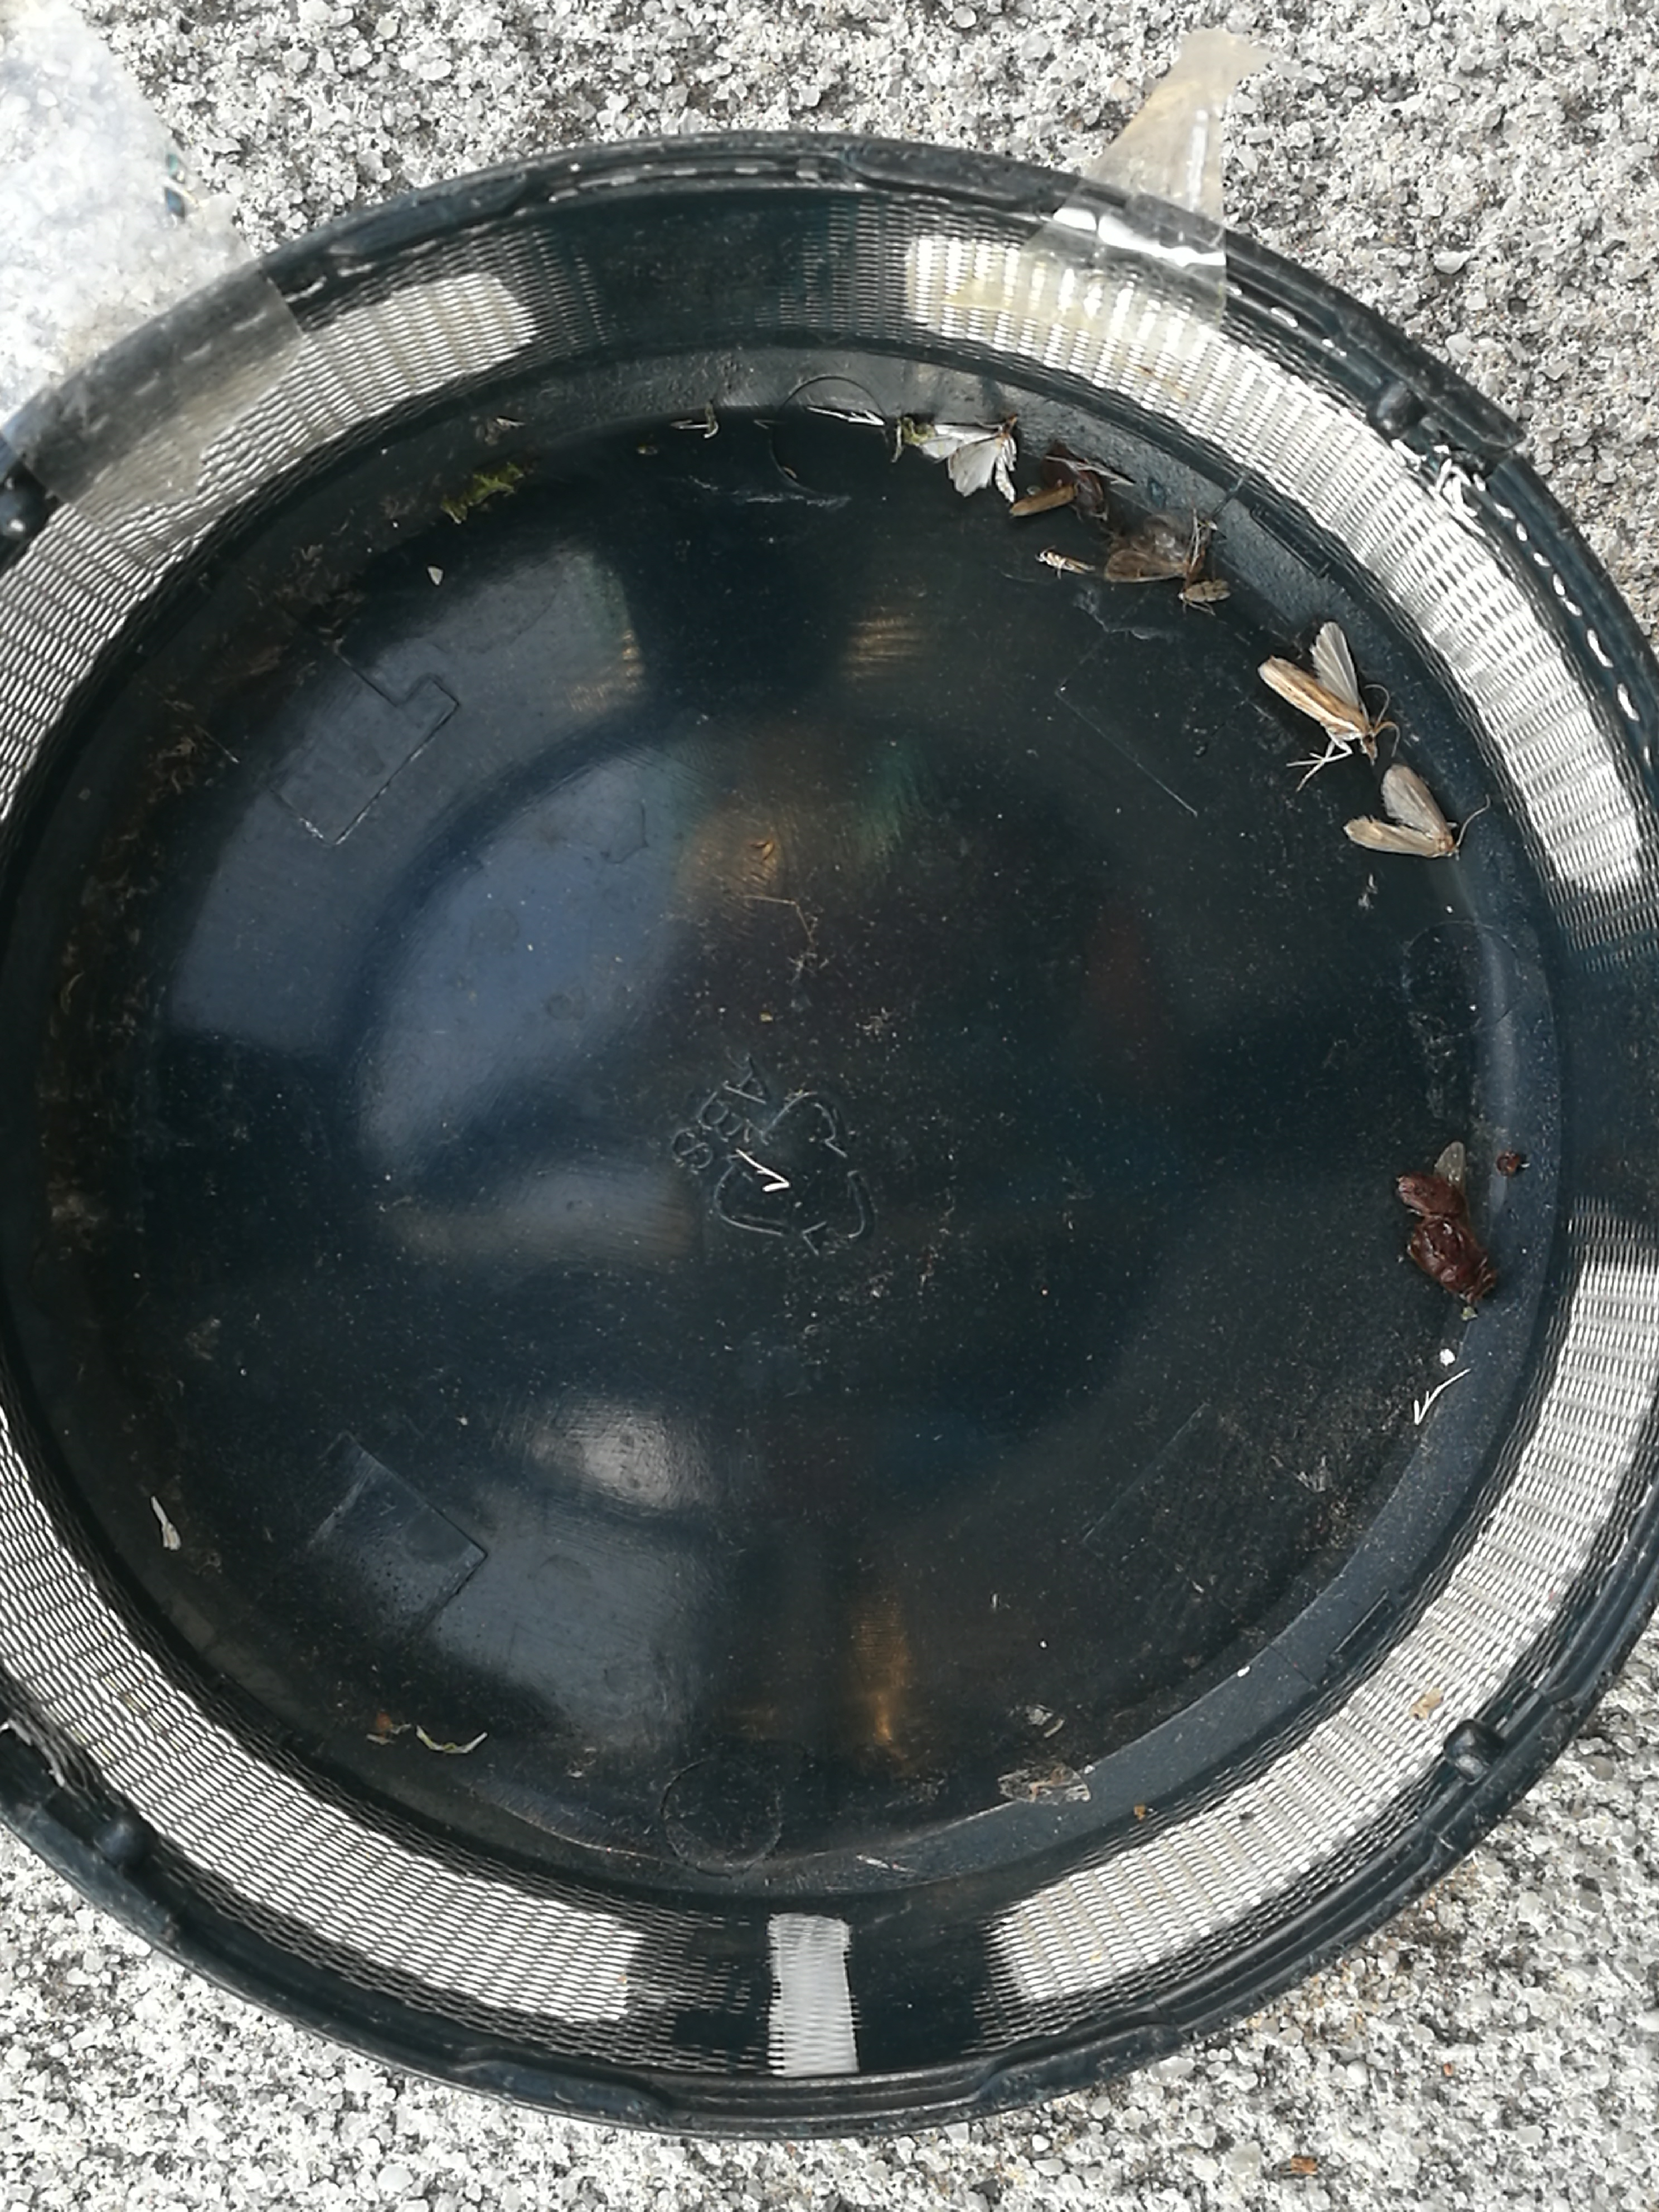mosquito: (1011, 488, 1072, 517), (1037, 550, 1094, 577)
moth: (1258, 622, 1375, 763), (1345, 766, 1453, 857), (927, 427, 1018, 503), (1180, 578, 1230, 601)
